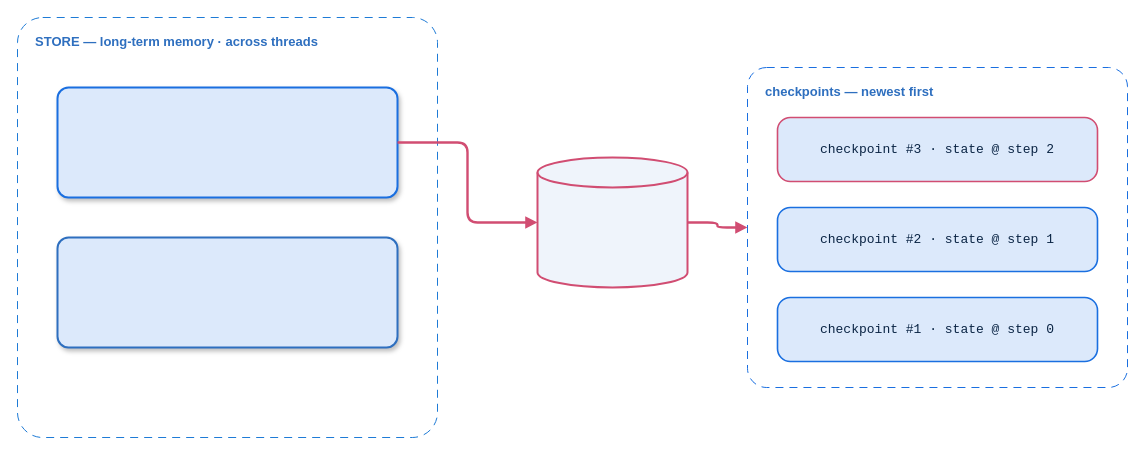
This 1145x455 diagram has some shape labels left out. The shapes that lost their labels are listed below. From the top down, each one's centre as x and y in pixels, then its label:
At point (228, 143): "thread 1 · checkpointer".
At point (612, 222): "checkpointer".
At point (228, 293): "thread 2 · checkpointer".
